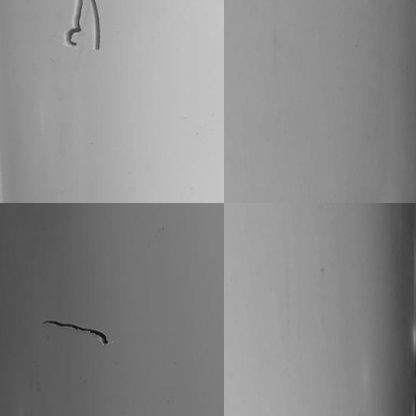fengxi: (62, 2, 116, 52), (43, 317, 111, 349)
